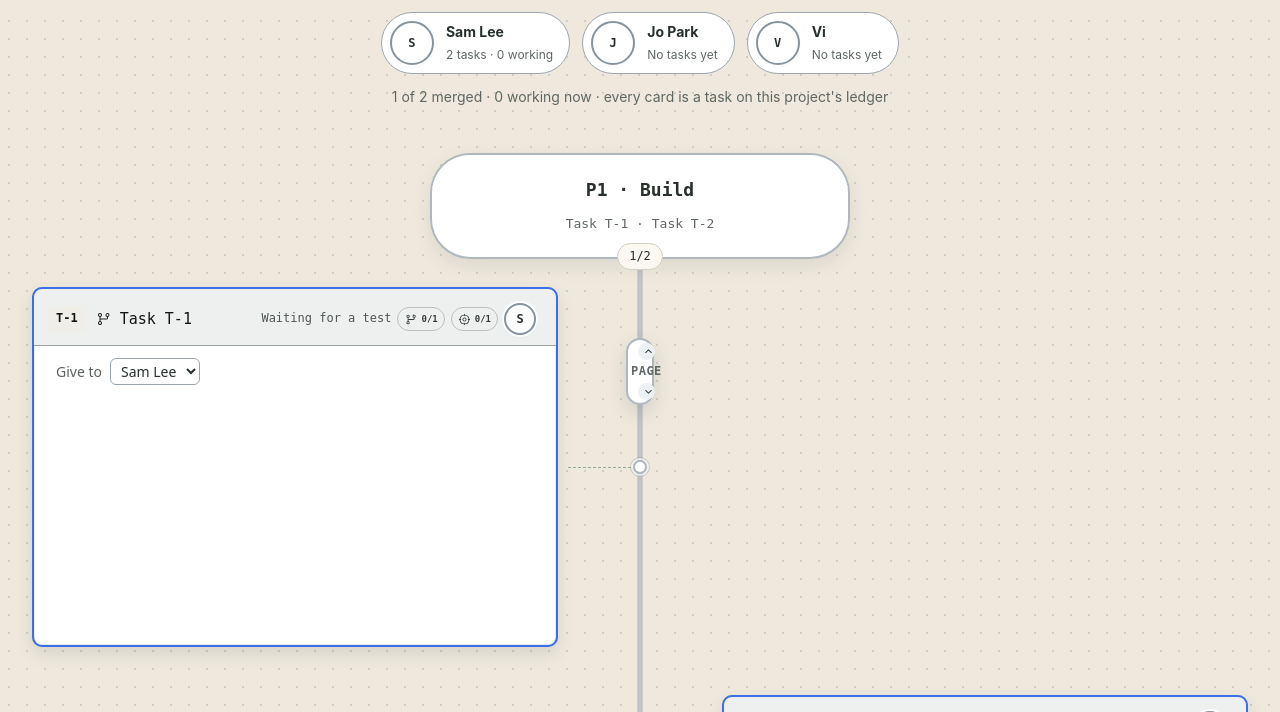
it: a person's own spine › the owner can give a task to someone, and it moves onto their spine; others and a lone owner get no selector
Expected: the list named "People on this project" is shown, [381, 12, 899, 74]
Select "Jo Park" in the dropdown named "Give T-1 to": (155, 372) [110, 358, 200, 385]
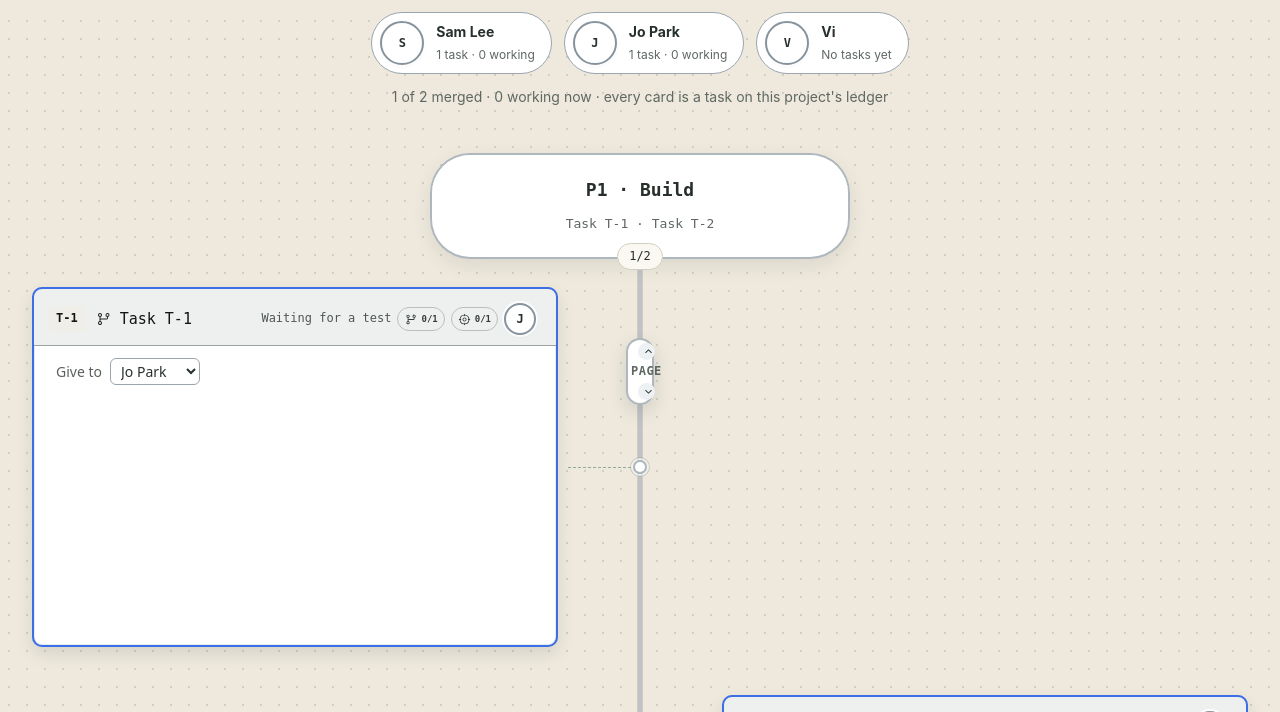
Result: the button with aria-label "Open Jo Park's spine" shows "1 task" at [564, 12, 744, 74]
